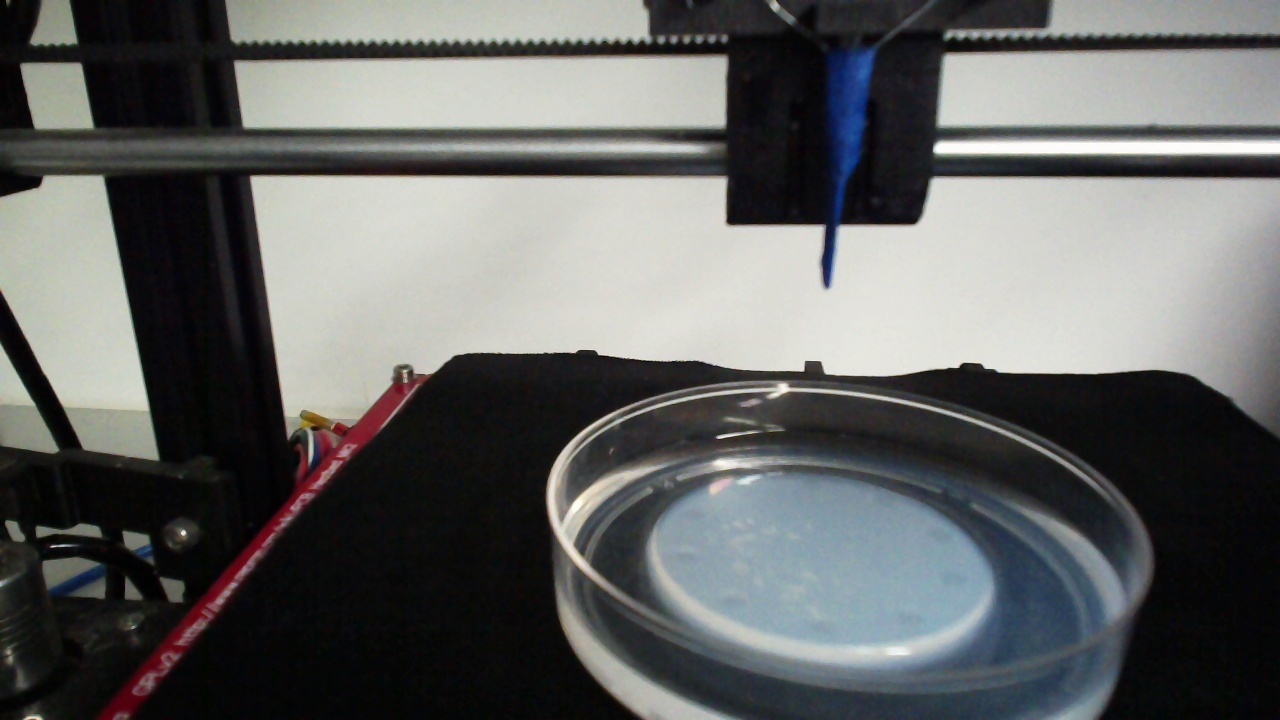groove: (809, 616, 840, 637), (939, 568, 969, 589), (894, 609, 925, 629), (720, 591, 751, 611), (679, 506, 707, 525), (926, 526, 952, 546), (870, 491, 897, 509), (673, 549, 699, 567), (801, 475, 826, 493)
needle: (818, 52, 872, 283)
